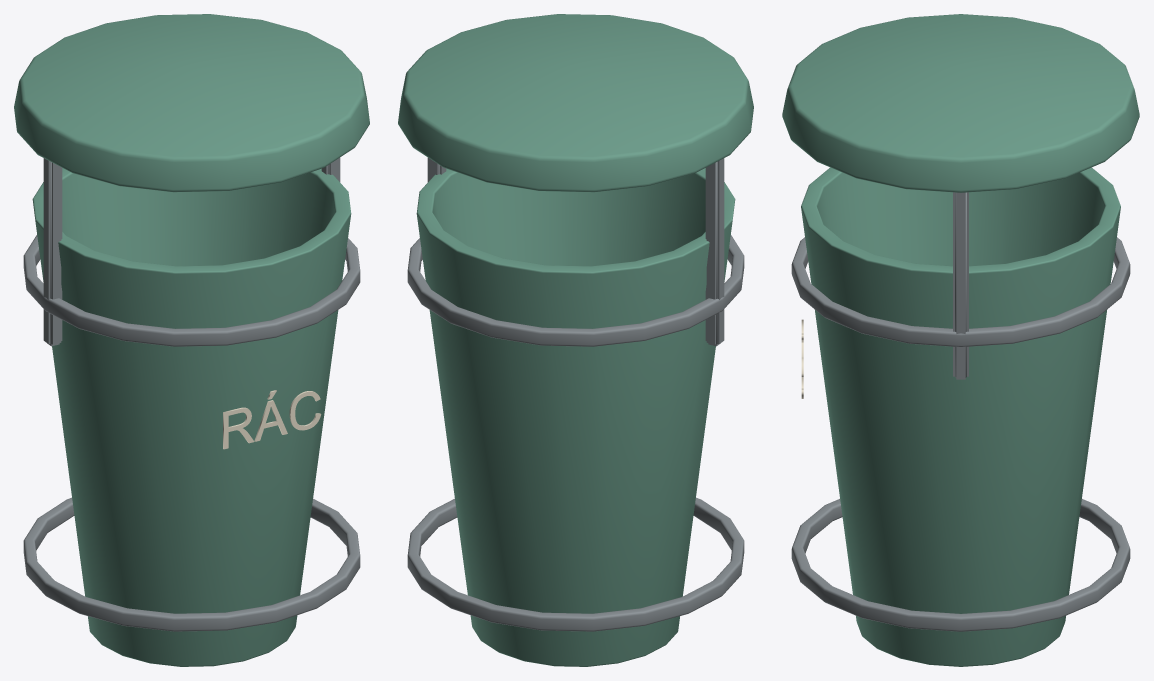
File: TrashBinRound.glb
3 views of the same model, side by side, from view 1: azimuth 30°, elevation 25°; view 2: azimuth 150°, elevation 25°; view 3: azimuth 270°, elevation 25° (orthographic).
Visible parts, largest first — view 1: ST_TrashBinRound_ST_green.001, ST_TrashBinRound_PBK_Indochine_metal.001, ST_RÁC.002; view 2: ST_TrashBinRound_ST_green.001, ST_TrashBinRound_PBK_Indochine_metal.001; view 3: ST_TrashBinRound_ST_green.001, ST_TrashBinRound_PBK_Indochine_metal.001.
Boxes of the visible parts, <box> form: ST_TrashBinRound_ST_green.001: <box>14,14,369,666</box>; ST_TrashBinRound_PBK_Indochine_metal.001: <box>23,157,360,631</box>; ST_RÁC.002: <box>223,390,321,449</box>; ST_TrashBinRound_ST_green.001: <box>398,14,753,666</box>; ST_TrashBinRound_PBK_Indochine_metal.001: <box>407,157,744,631</box>; ST_TrashBinRound_ST_green.001: <box>782,14,1139,666</box>; ST_TrashBinRound_PBK_Indochine_metal.001: <box>791,192,1130,631</box>.
Size of the model in its own units: 0.5579 by 0.955 by 0.5579.
